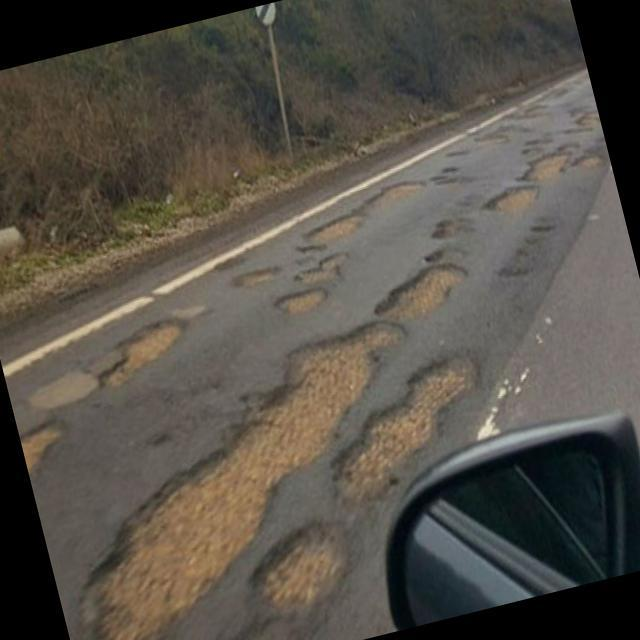Pothole: (12, 268, 460, 640), (310, 338, 496, 484), (232, 500, 361, 620), (86, 302, 192, 388), (369, 254, 478, 328), (14, 401, 76, 487), (472, 178, 544, 224), (299, 202, 370, 248), (362, 174, 434, 216), (292, 246, 356, 288), (274, 280, 331, 320), (522, 143, 574, 185), (233, 260, 280, 290), (213, 246, 250, 274), (430, 214, 460, 242)
